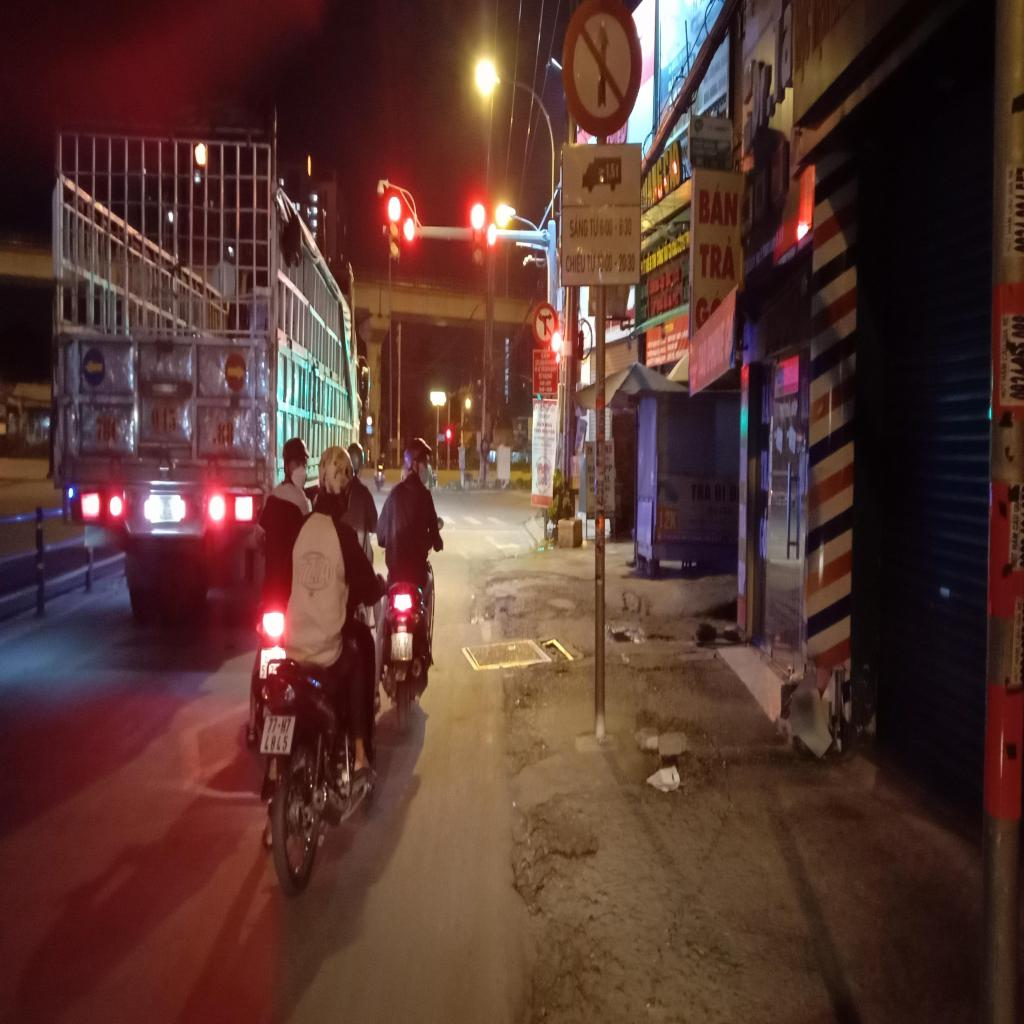cam_re_trai_va_phai: (532, 301, 558, 348)
khac: (562, 143, 643, 283), (562, 0, 642, 136)
